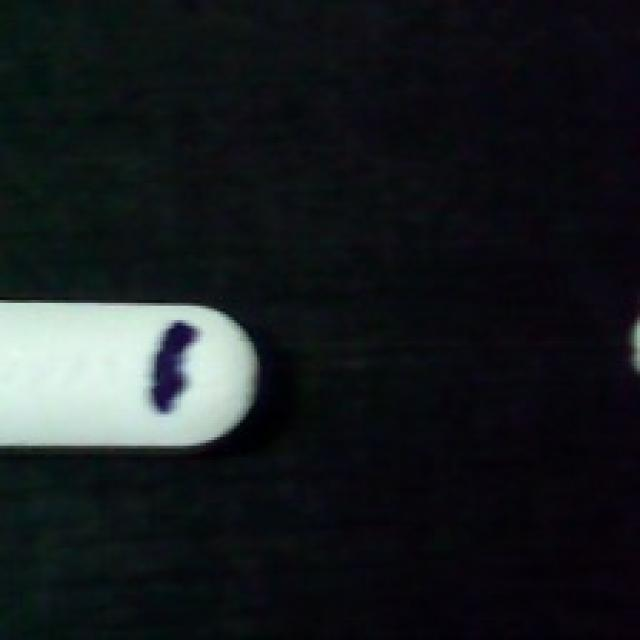defected: (0, 297, 266, 460)
